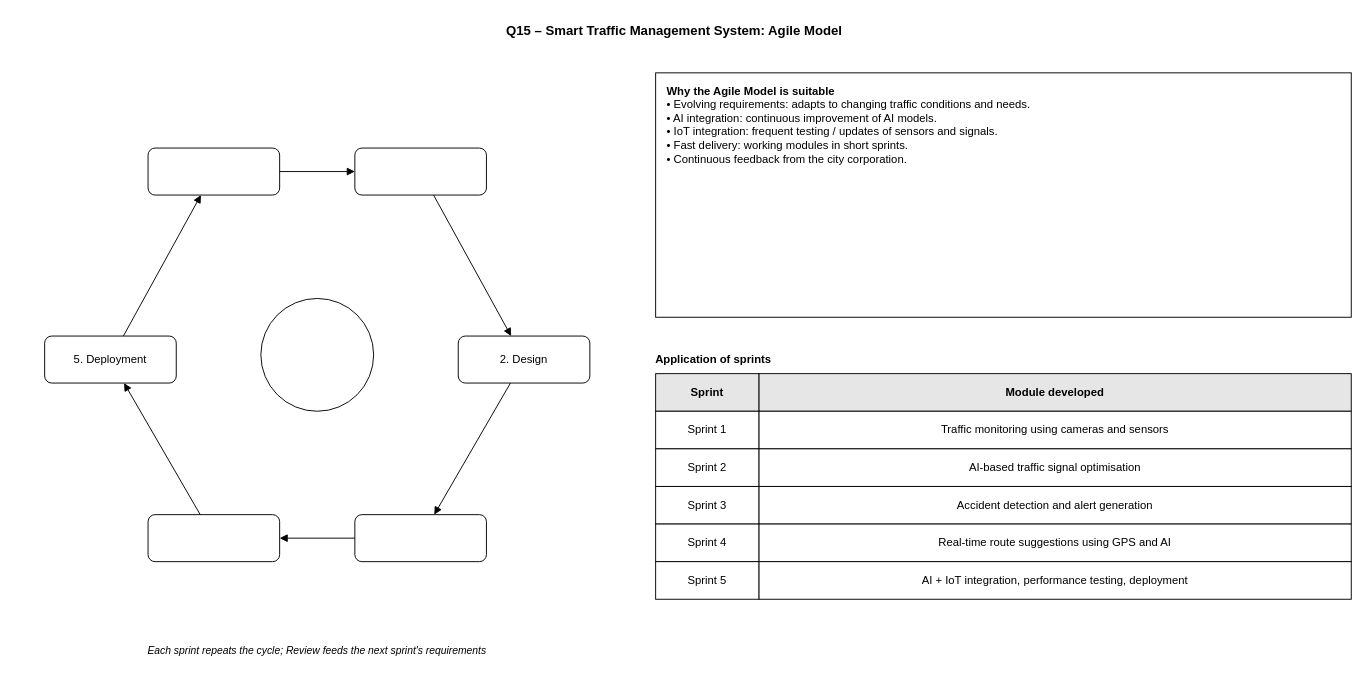
This 1368x681 diagram has some shape labels left out. The centre of each missing label's shape, as x and y in pixels:
1. Requirements: pixel 420 171
3. Development: pixel 420 538
4. Testing: pixel 213 538
6. Review: pixel 213 171
AGILE: pixel 317 354
